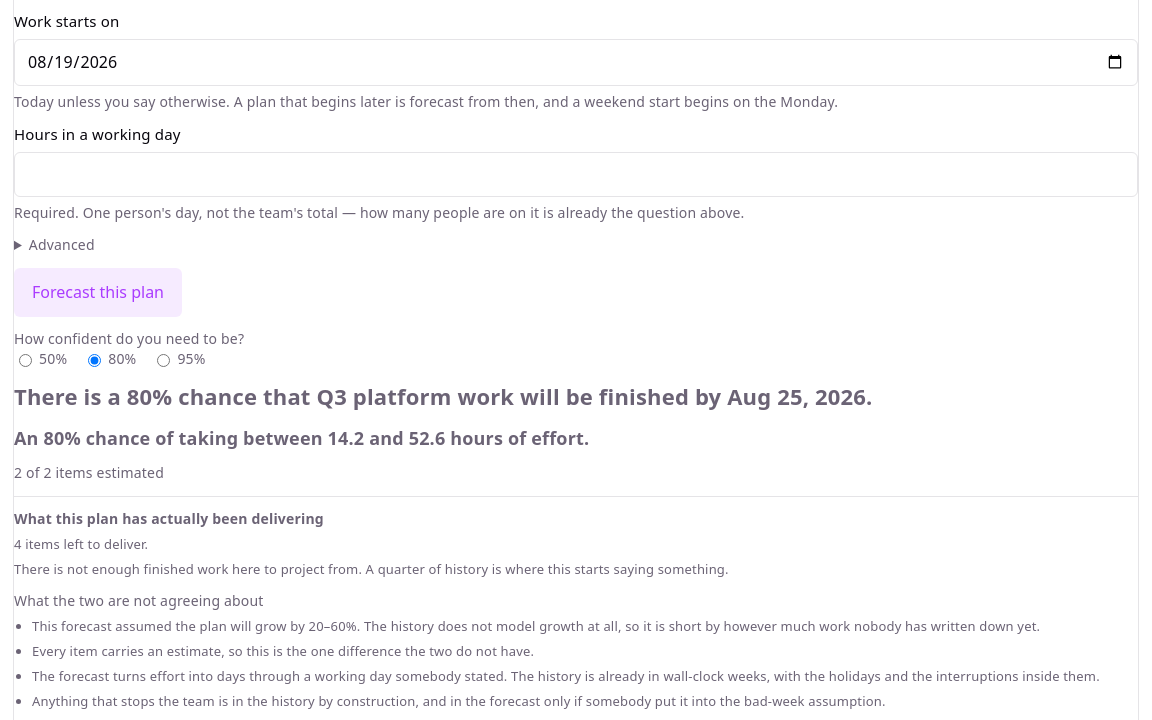
Test case: ForecastPanel › leads with a date and moves it between confidences without asking again
This screenshot has width=1152, height=720.
(page scrolled)
Expected: the text "There is a 80% chance that Q3 platform work will be finished by Aug 25, 2026." is shown, [14, 382, 873, 412]
Click the radio button labelled "50%". click: (26, 361)
box: [19, 354, 32, 367]
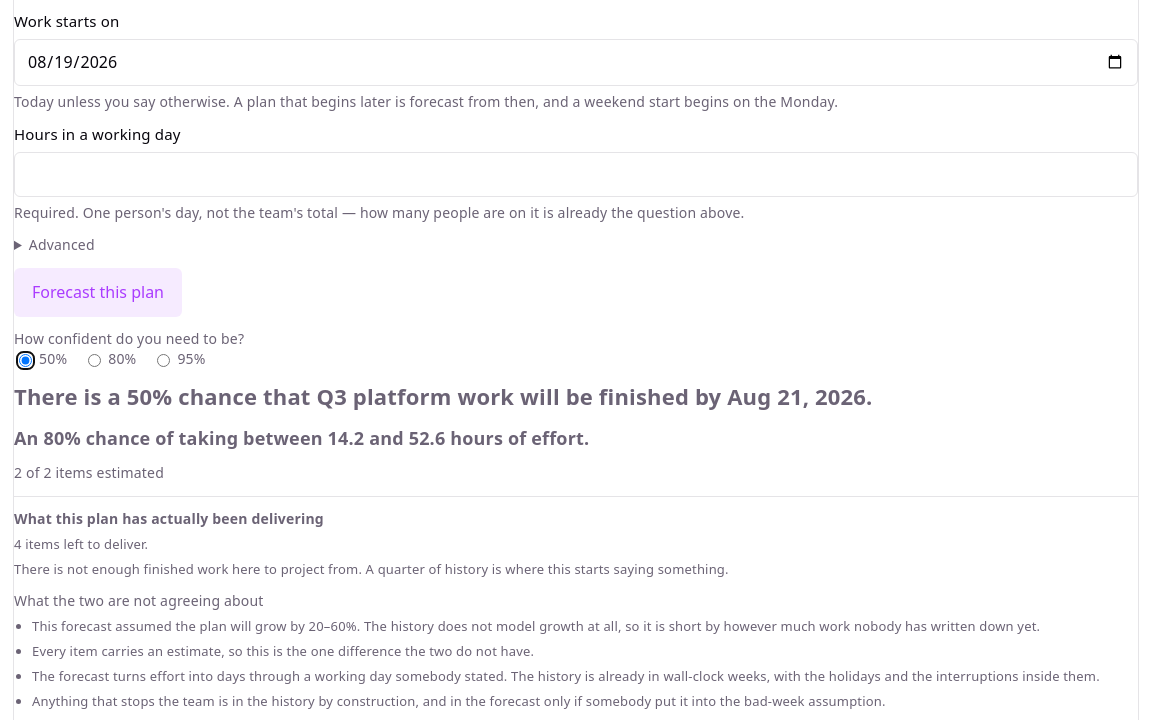
Result: the text "There is a 50% chance that Q3 platform work will be finished by Aug 21, 2026." is shown at [14, 382, 873, 412]
Click the radio button labelled "95%". click: (164, 361)
box: [157, 354, 170, 367]
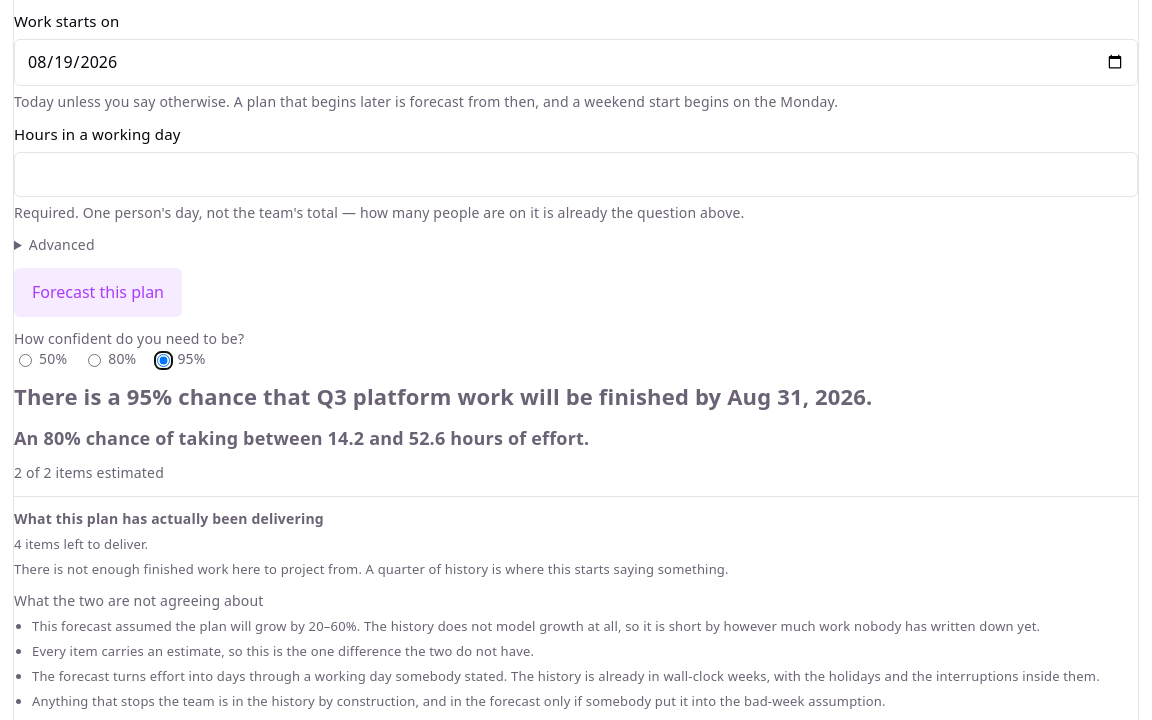
Result: the text "There is a 95% chance that Q3 platform work will be finished by Aug 31, 2026." is shown at [14, 382, 873, 412]
